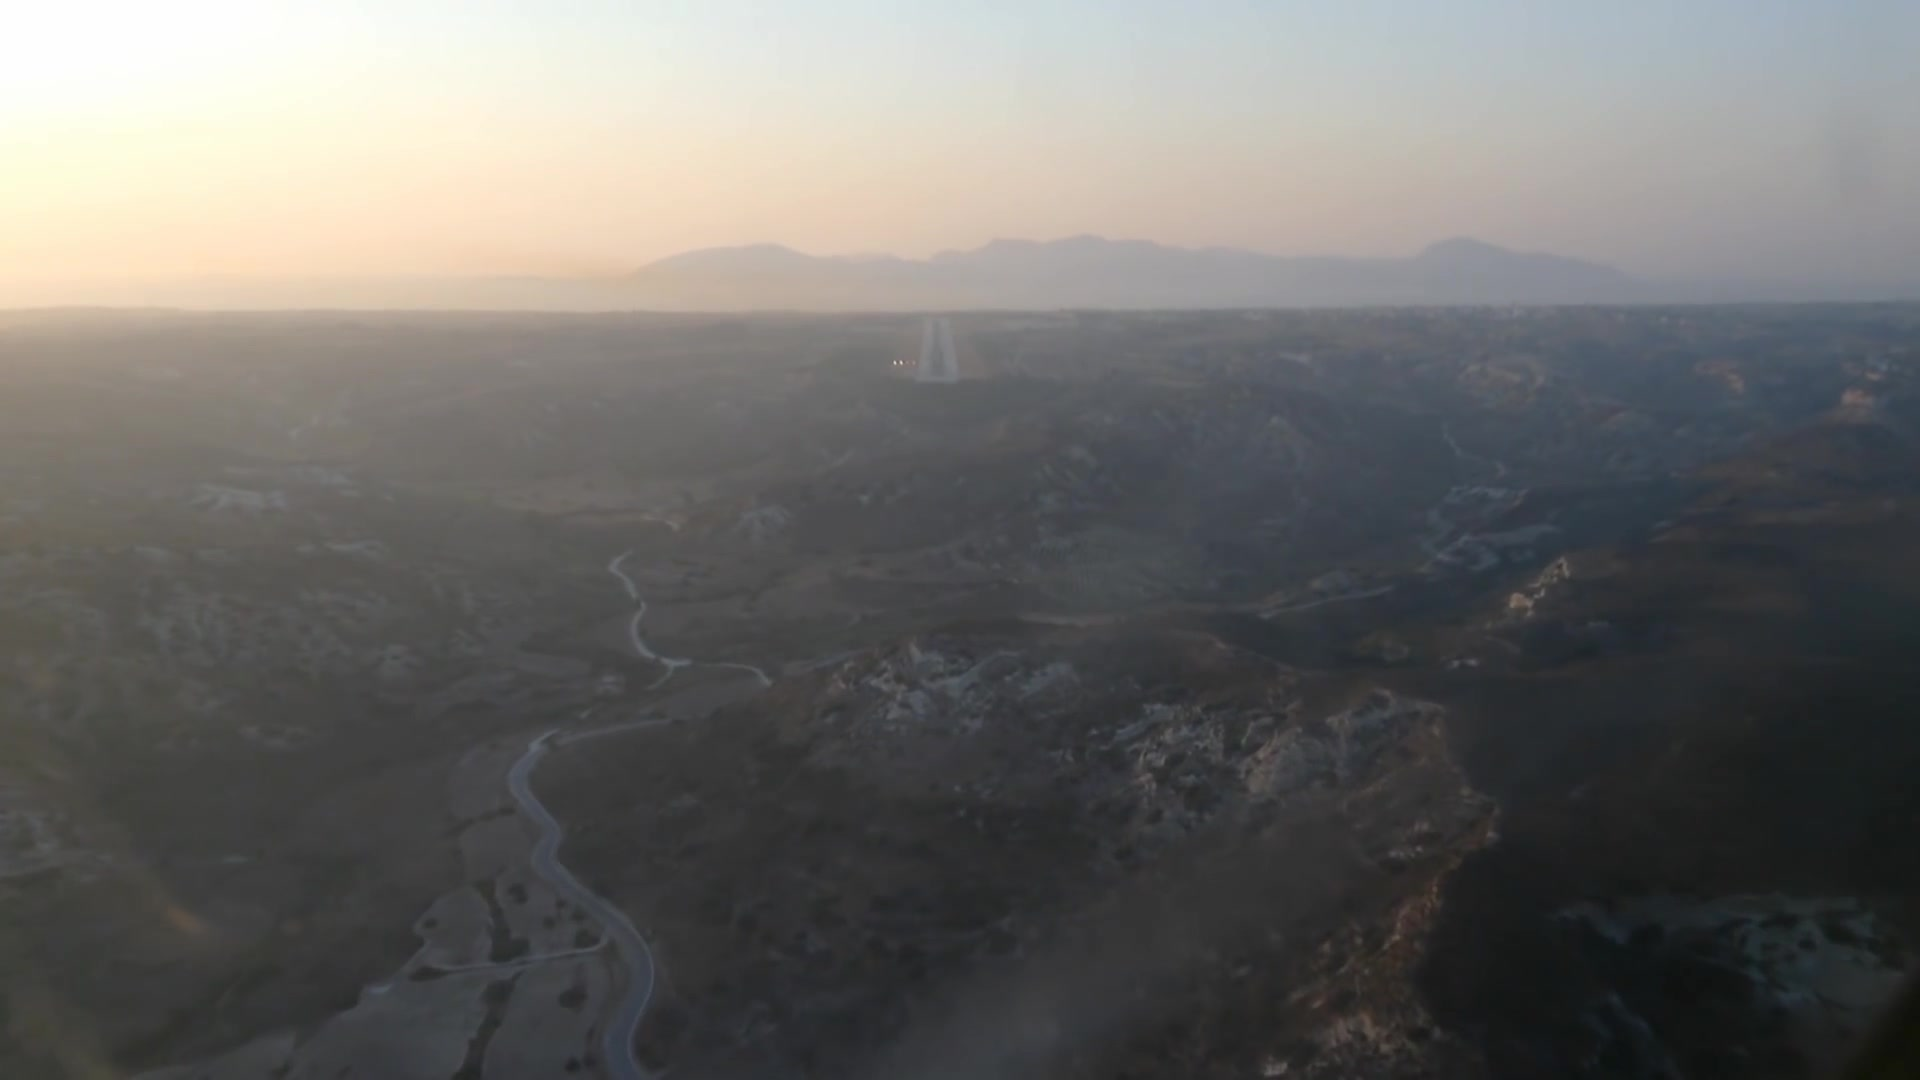runway: (915, 314, 963, 388)
